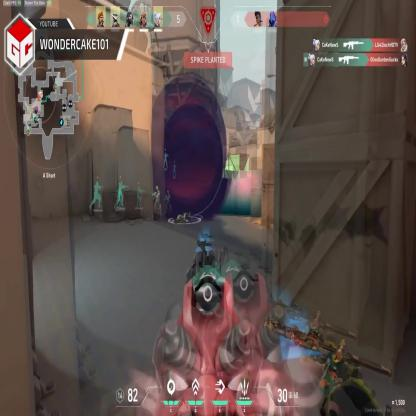enemy: (153, 186, 161, 218)
enemy_head: (156, 186, 158, 191)
